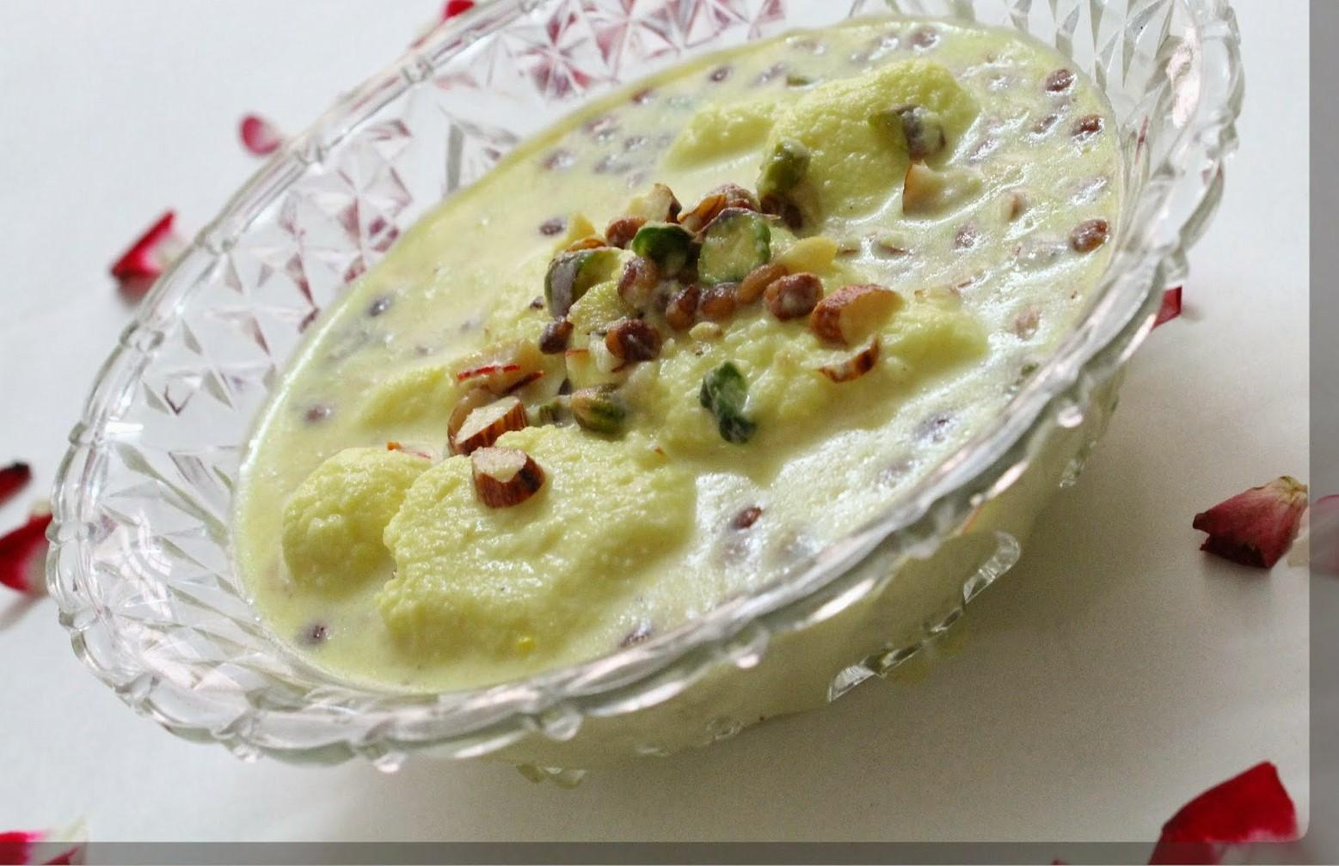RasMalai: (233, 9, 1128, 688)
